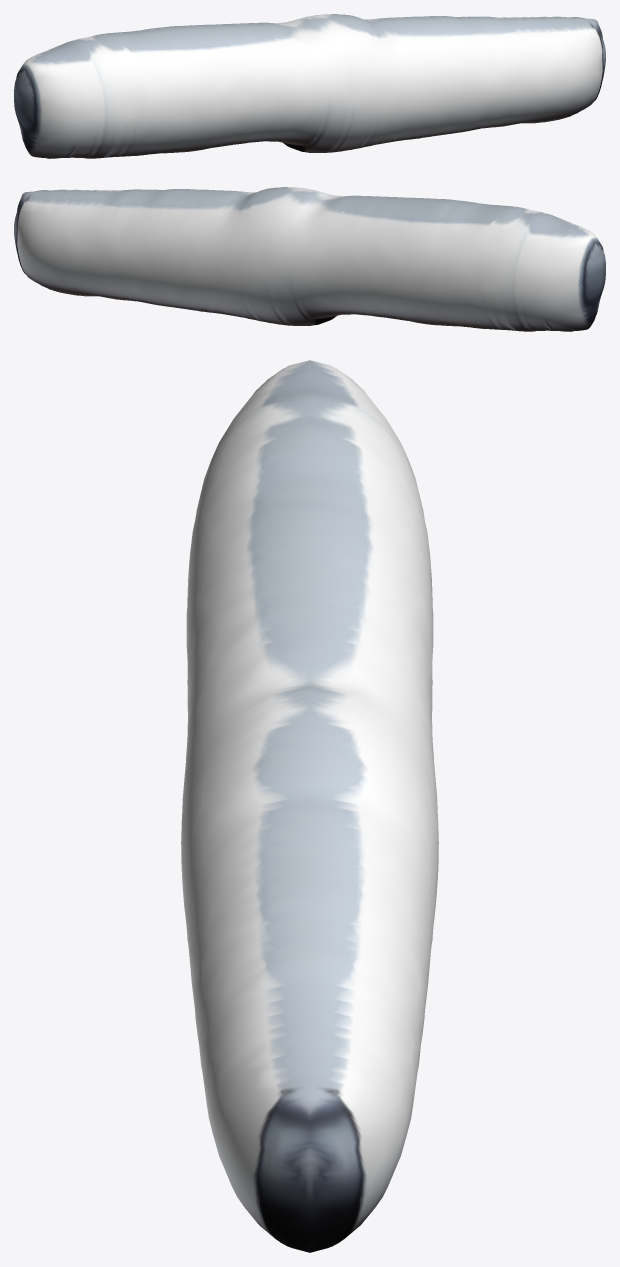
Rendered from flashlight.glb.
The picture shows the model from 3 angles, top to bottom: view 1: azimuth 30°, elevation 25°; view 2: azimuth 150°, elevation 25°; view 3: azimuth 270°, elevation 25°; orthographic projection. The views are drawn at different scales.
Bounding box in the file's own units: 6.03 × 1.86 × 1.15.
1 material, 1 textured.
